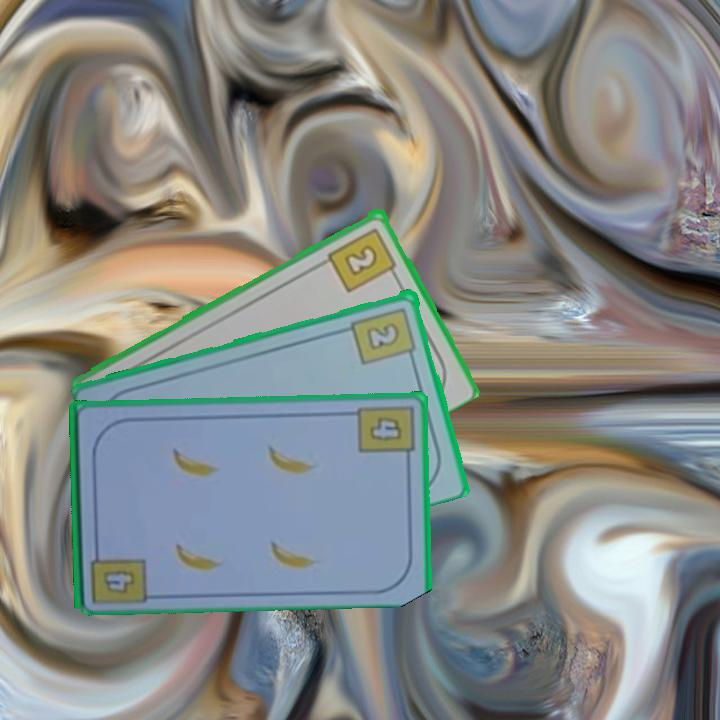2b: (324, 224, 401, 295), (348, 303, 419, 367)
4b: (354, 401, 416, 465), (100, 566, 139, 597)
